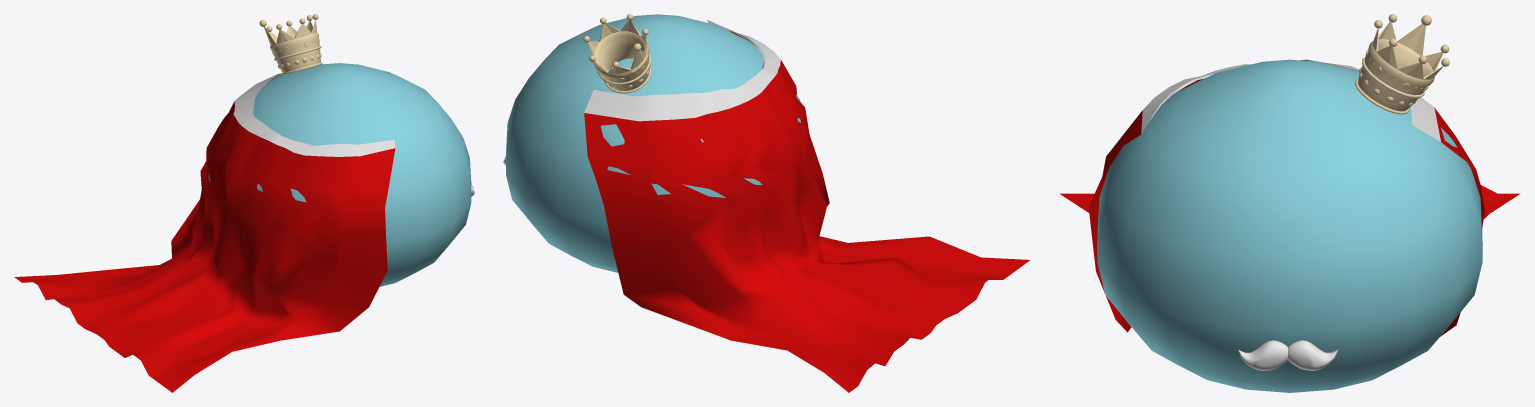
The model's file is Player.fbx.
3 renders of one model, left to right at view 1: azimuth 30°, elevation 25°; view 2: azimuth 150°, elevation 25°; view 3: azimuth 270°, elevation 25°, orthographic. The views are drawn at different scales.
Parts seen in each view (by area): view 1: slime_normal:curve4; view 2: slime_normal:curve4; view 3: slime_normal:curve4.
Part boxes in pixels (box(x1,y1,x2,y2)): slime_normal:curve4: box(14, 14, 474, 392); slime_normal:curve4: box(503, 14, 1029, 392); slime_normal:curve4: box(1059, 14, 1520, 392).
Size of the model in its own units: 3.29 by 2.02 by 2.44.
